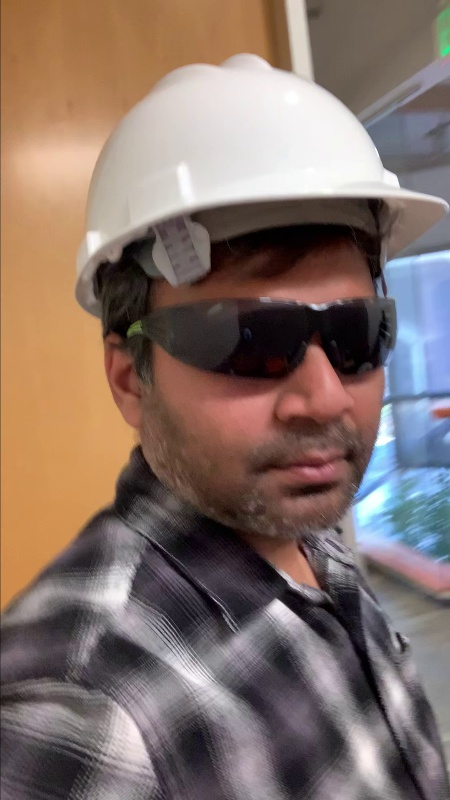glasses: (151, 298, 411, 389)
helmet: (72, 45, 450, 296)
